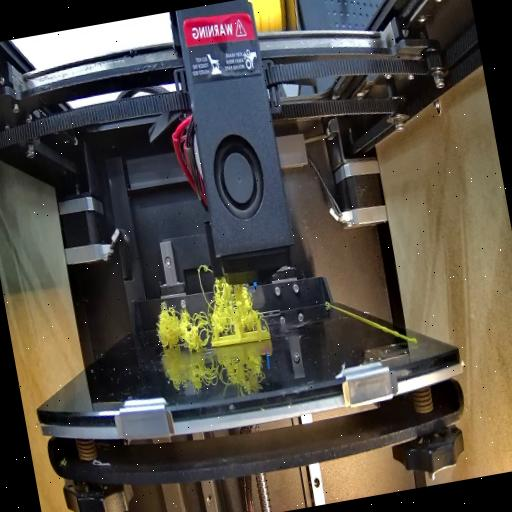spaghetti: (194, 251, 262, 334), (150, 298, 210, 358)
